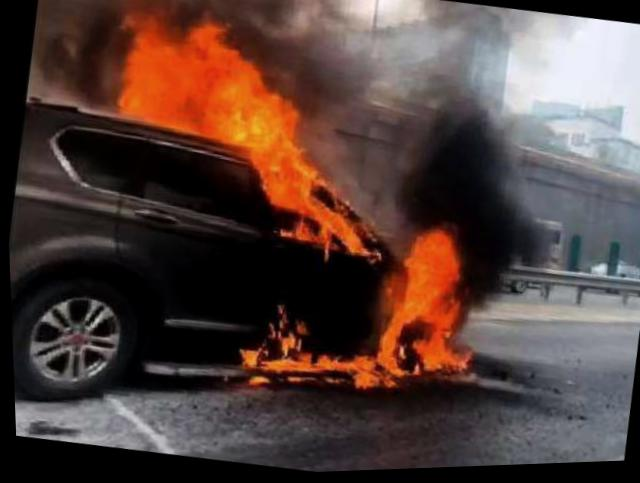fire: (78, 0, 526, 424)
